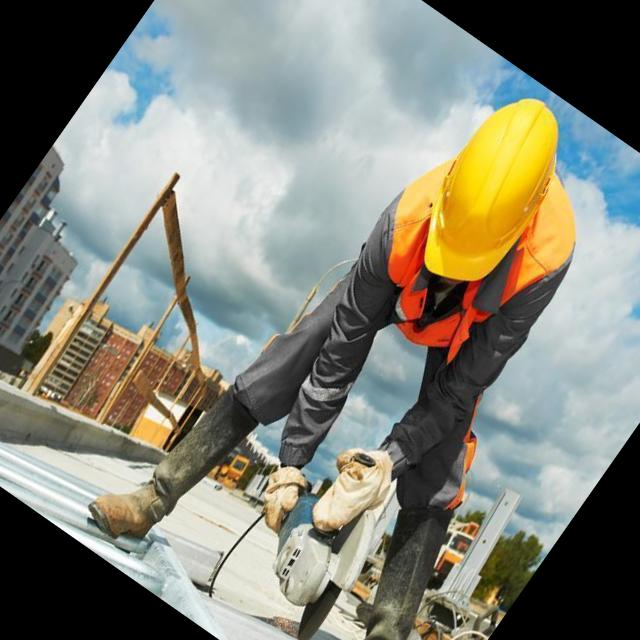hard_hat: (392, 78, 592, 302)
safety_vest: (332, 108, 604, 390)
vehicle: (38, 0, 640, 640)
work_boots: (78, 357, 268, 572), (277, 483, 514, 640)
